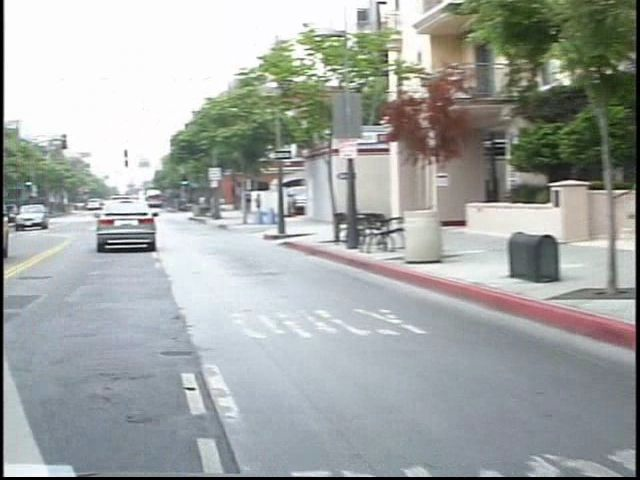person: (240, 186, 255, 220)
